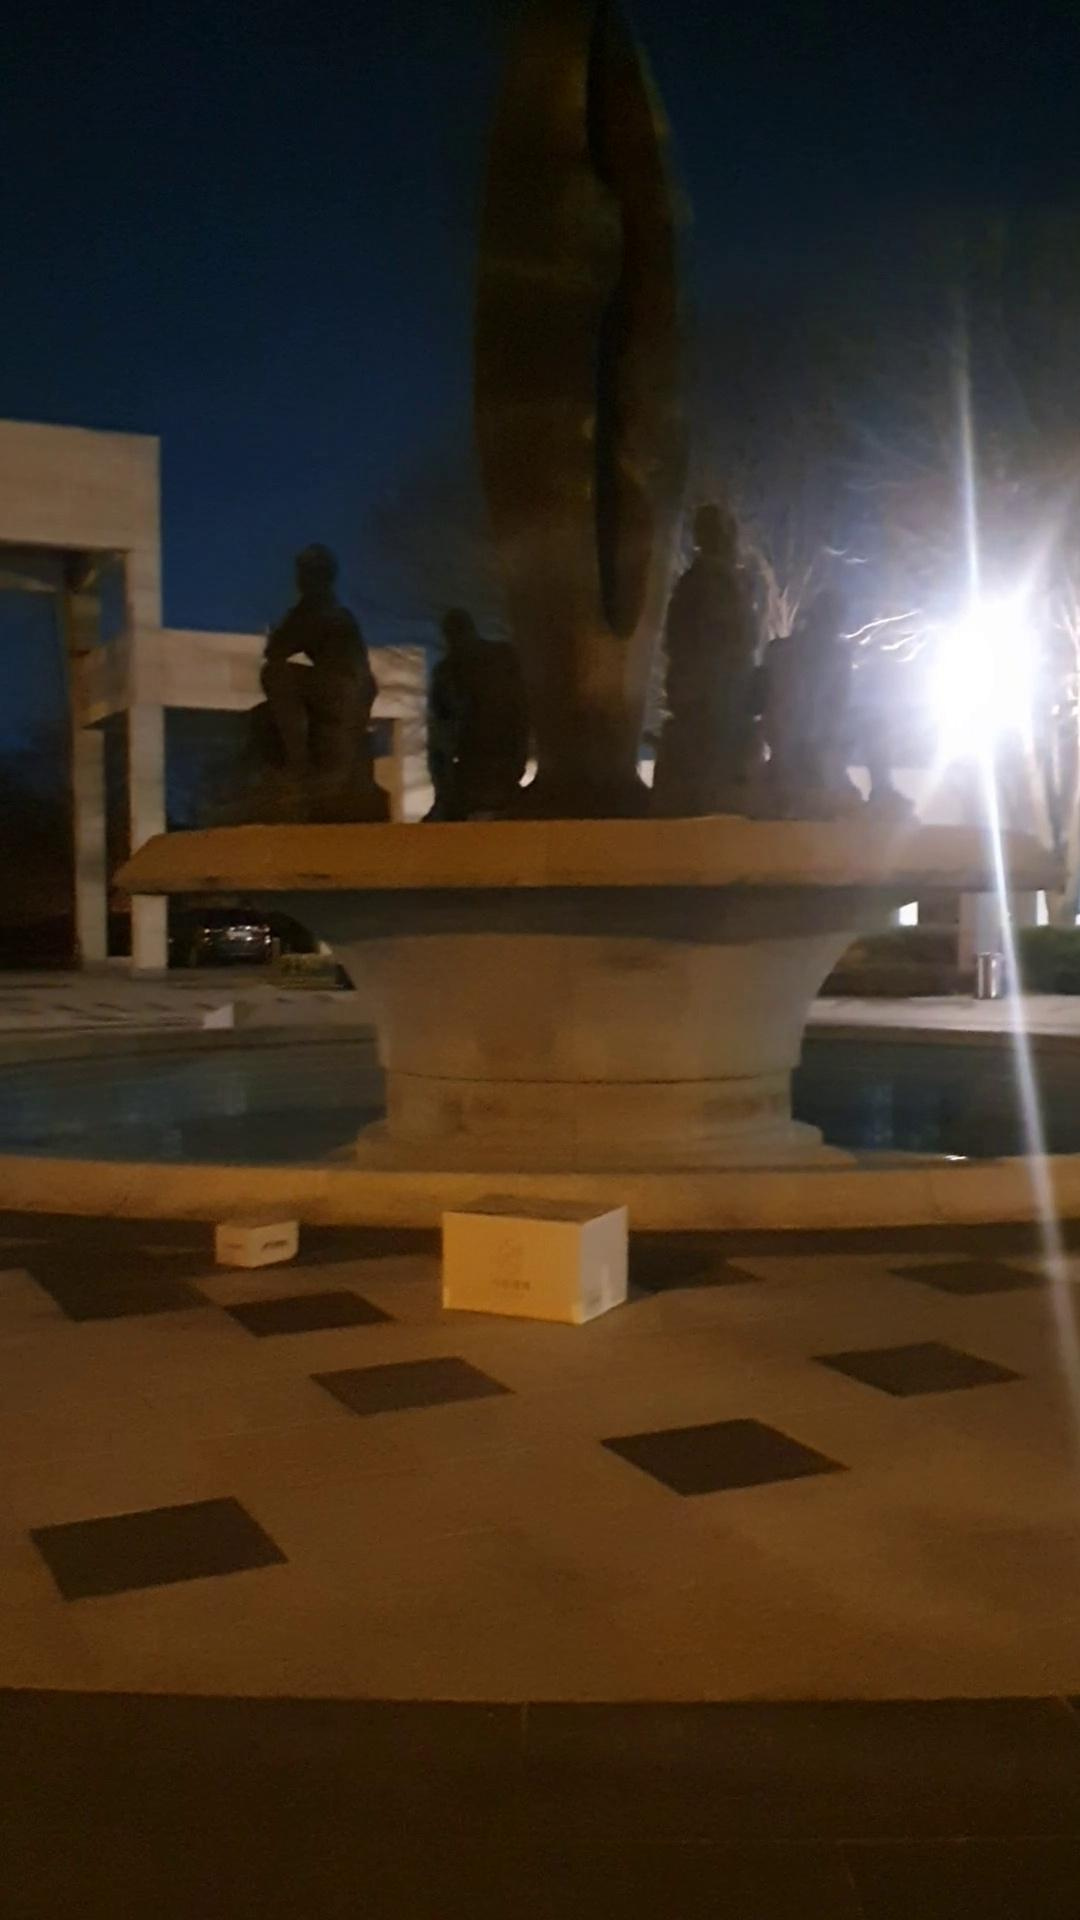Box: (433, 1170, 625, 1332), (214, 1203, 302, 1283)
